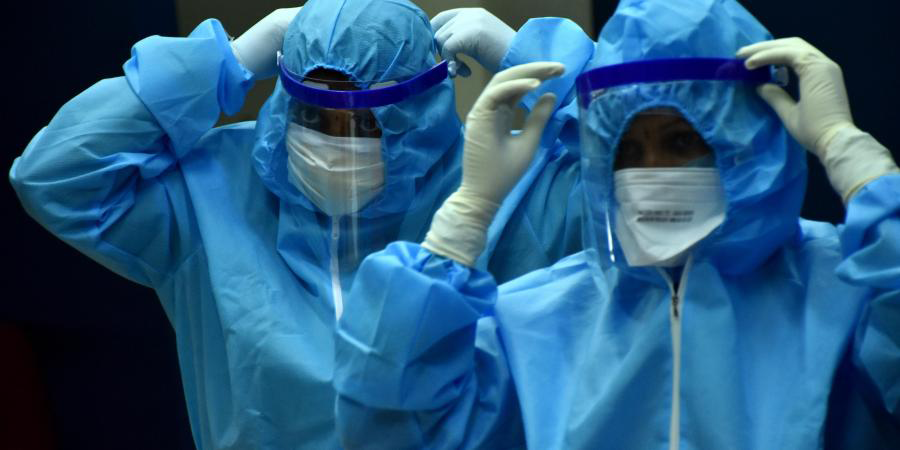Coverall: (329, 2, 896, 445), (6, 3, 522, 445)
Face_Shield: (577, 55, 813, 297), (271, 60, 451, 303)
Gloves: (423, 60, 564, 270), (736, 34, 900, 206), (213, 3, 298, 88), (427, 8, 514, 69)
with_mask: (601, 137, 725, 269), (280, 104, 384, 215)
